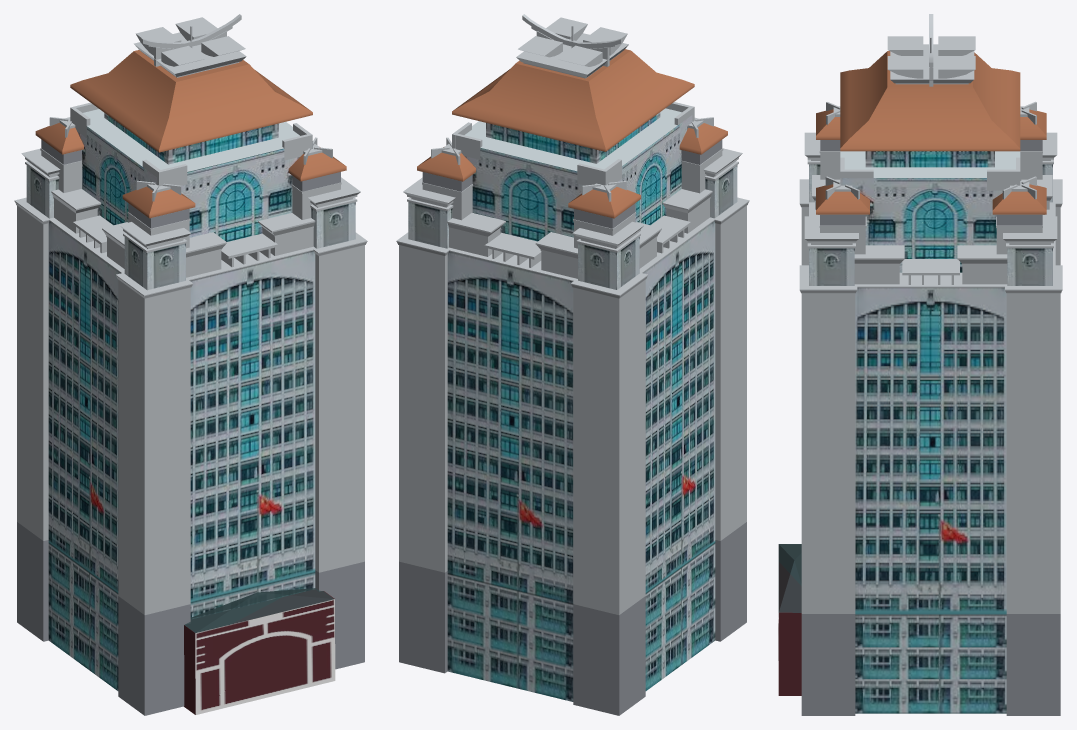
Rendered from 颂恩楼3.fbx.
3 views of the same model, side by side, from view 1: azimuth 30°, elevation 25°; view 2: azimuth 150°, elevation 25°; view 3: azimuth 270°, elevation 25° (orthographic).
Parts seen in each view (by area): view 1: pasted__pCube1, pasted__pasted__pCube39, pasted__pasted__pCube44, pCube18, pasted__pCube42, pCube20, pasted__pasted__pCube46, pasted__pasted__pCube43, pCube121, pCube19, pCube2, pCube33 (×2) (+22 smaller); view 2: pasted__pCube1, pasted__pasted__pCube46, pasted__pasted__pCube45, pCube18, pCube20, pasted__pasted__pCube39, pCube122, pCube19, pCube123, pCube33 (×2), pCube15, pCube52 (+19 smaller); view 3: pasted__pCube1, pasted__pasted__pCube44, pasted__pasted__pCube45, pCube20, pCube18, pasted__pCube42, pCube19, pCube2, pCube123, pasted__pasted__pCube43, pCube52, pCube13 (+22 smaller).
Boxes of the visible parts, x1,y1,x2,y2 form: pasted__pCube1: [48, 221, 315, 690]; pasted__pasted__pCube39: [118, 280, 190, 715]; pasted__pasted__pCube44: [315, 245, 364, 669]; pCube18: [77, 109, 312, 241]; pasted__pCube42: [184, 589, 335, 714]; pCube20: [70, 50, 312, 152]; pasted__pasted__pCube46: [17, 206, 48, 641]; pasted__pasted__pCube43: [184, 588, 334, 632]; pCube121: [124, 237, 185, 290]; pCube19: [104, 113, 278, 164]; pCube2: [311, 202, 355, 248]; pCube33 (×2): [73, 215, 277, 258]; pasted__pCube1: [447, 221, 715, 701]; pasted__pasted__pCube46: [573, 280, 645, 715]; pasted__pasted__pCube45: [399, 245, 447, 673]; pCube18: [464, 108, 692, 241]; pCube20: [452, 49, 694, 151]; pasted__pasted__pCube39: [715, 206, 746, 641]; pCube122: [578, 237, 639, 289]; pCube19: [486, 112, 660, 163]; pCube123: [408, 202, 452, 248]; pCube33 (×2): [484, 215, 690, 259]; pCube15: [568, 187, 640, 218]; pCube52: [449, 218, 714, 281]; pasted__pCube1: [855, 287, 1006, 713]; pasted__pasted__pCube44: [801, 293, 855, 715]; pasted__pasted__pCube45: [1006, 293, 1060, 715]; pCube20: [840, 51, 1020, 151]; pCube18: [840, 151, 1020, 272]; pasted__pCube42: [778, 562, 801, 695]; pCube19: [865, 151, 994, 167]; pCube2: [809, 248, 854, 285]; pCube123: [1007, 248, 1052, 285]; pasted__pasted__pCube43: [778, 544, 801, 612]; pCube52: [809, 203, 1055, 287]; pCube13: [992, 184, 1046, 214].
Bounding box in the file's own units: 12.46 × 32.86 × 13.54.
